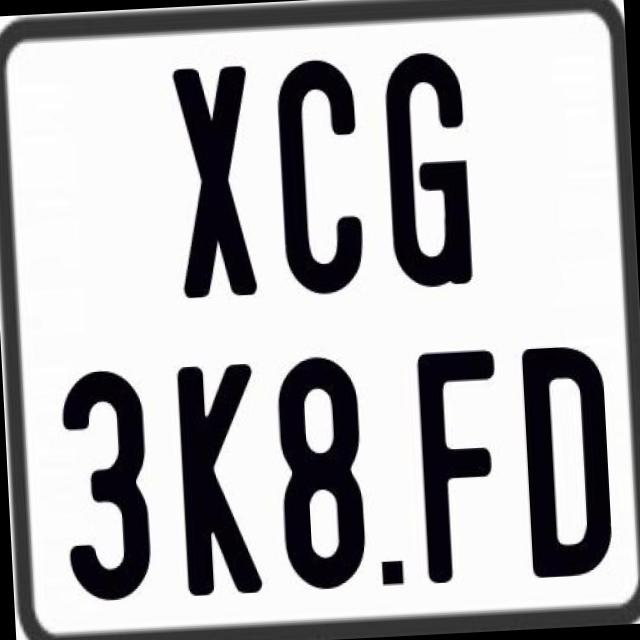3: (60, 369, 154, 604)
8: (275, 350, 369, 594)
C: (274, 58, 372, 299)
D: (520, 341, 612, 580)
F: (415, 346, 510, 590)
G: (382, 52, 478, 298)
K: (176, 362, 266, 600)
X: (172, 60, 262, 294)
